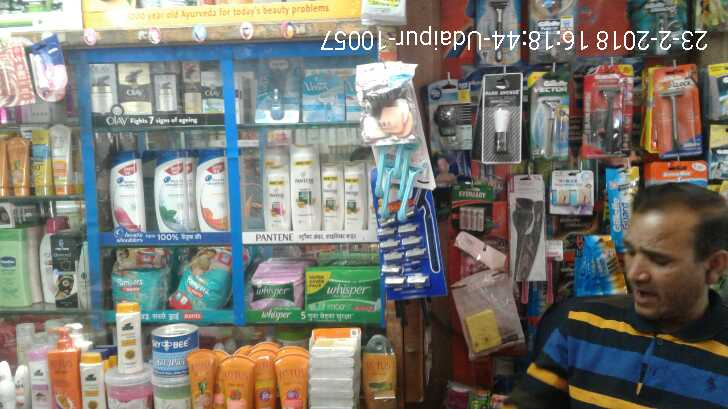ambipureVesus: (424, 79, 477, 153)
gillete: (585, 59, 635, 159), (646, 66, 701, 153), (378, 224, 440, 293), (526, 72, 571, 158), (533, 1, 569, 64), (478, 1, 517, 59), (579, 235, 614, 287), (647, 1, 679, 52), (611, 167, 633, 241), (711, 129, 728, 175), (710, 64, 728, 107)
venus: (369, 143, 424, 220), (257, 61, 301, 123), (301, 72, 345, 123), (541, 246, 563, 311), (345, 69, 359, 123)
